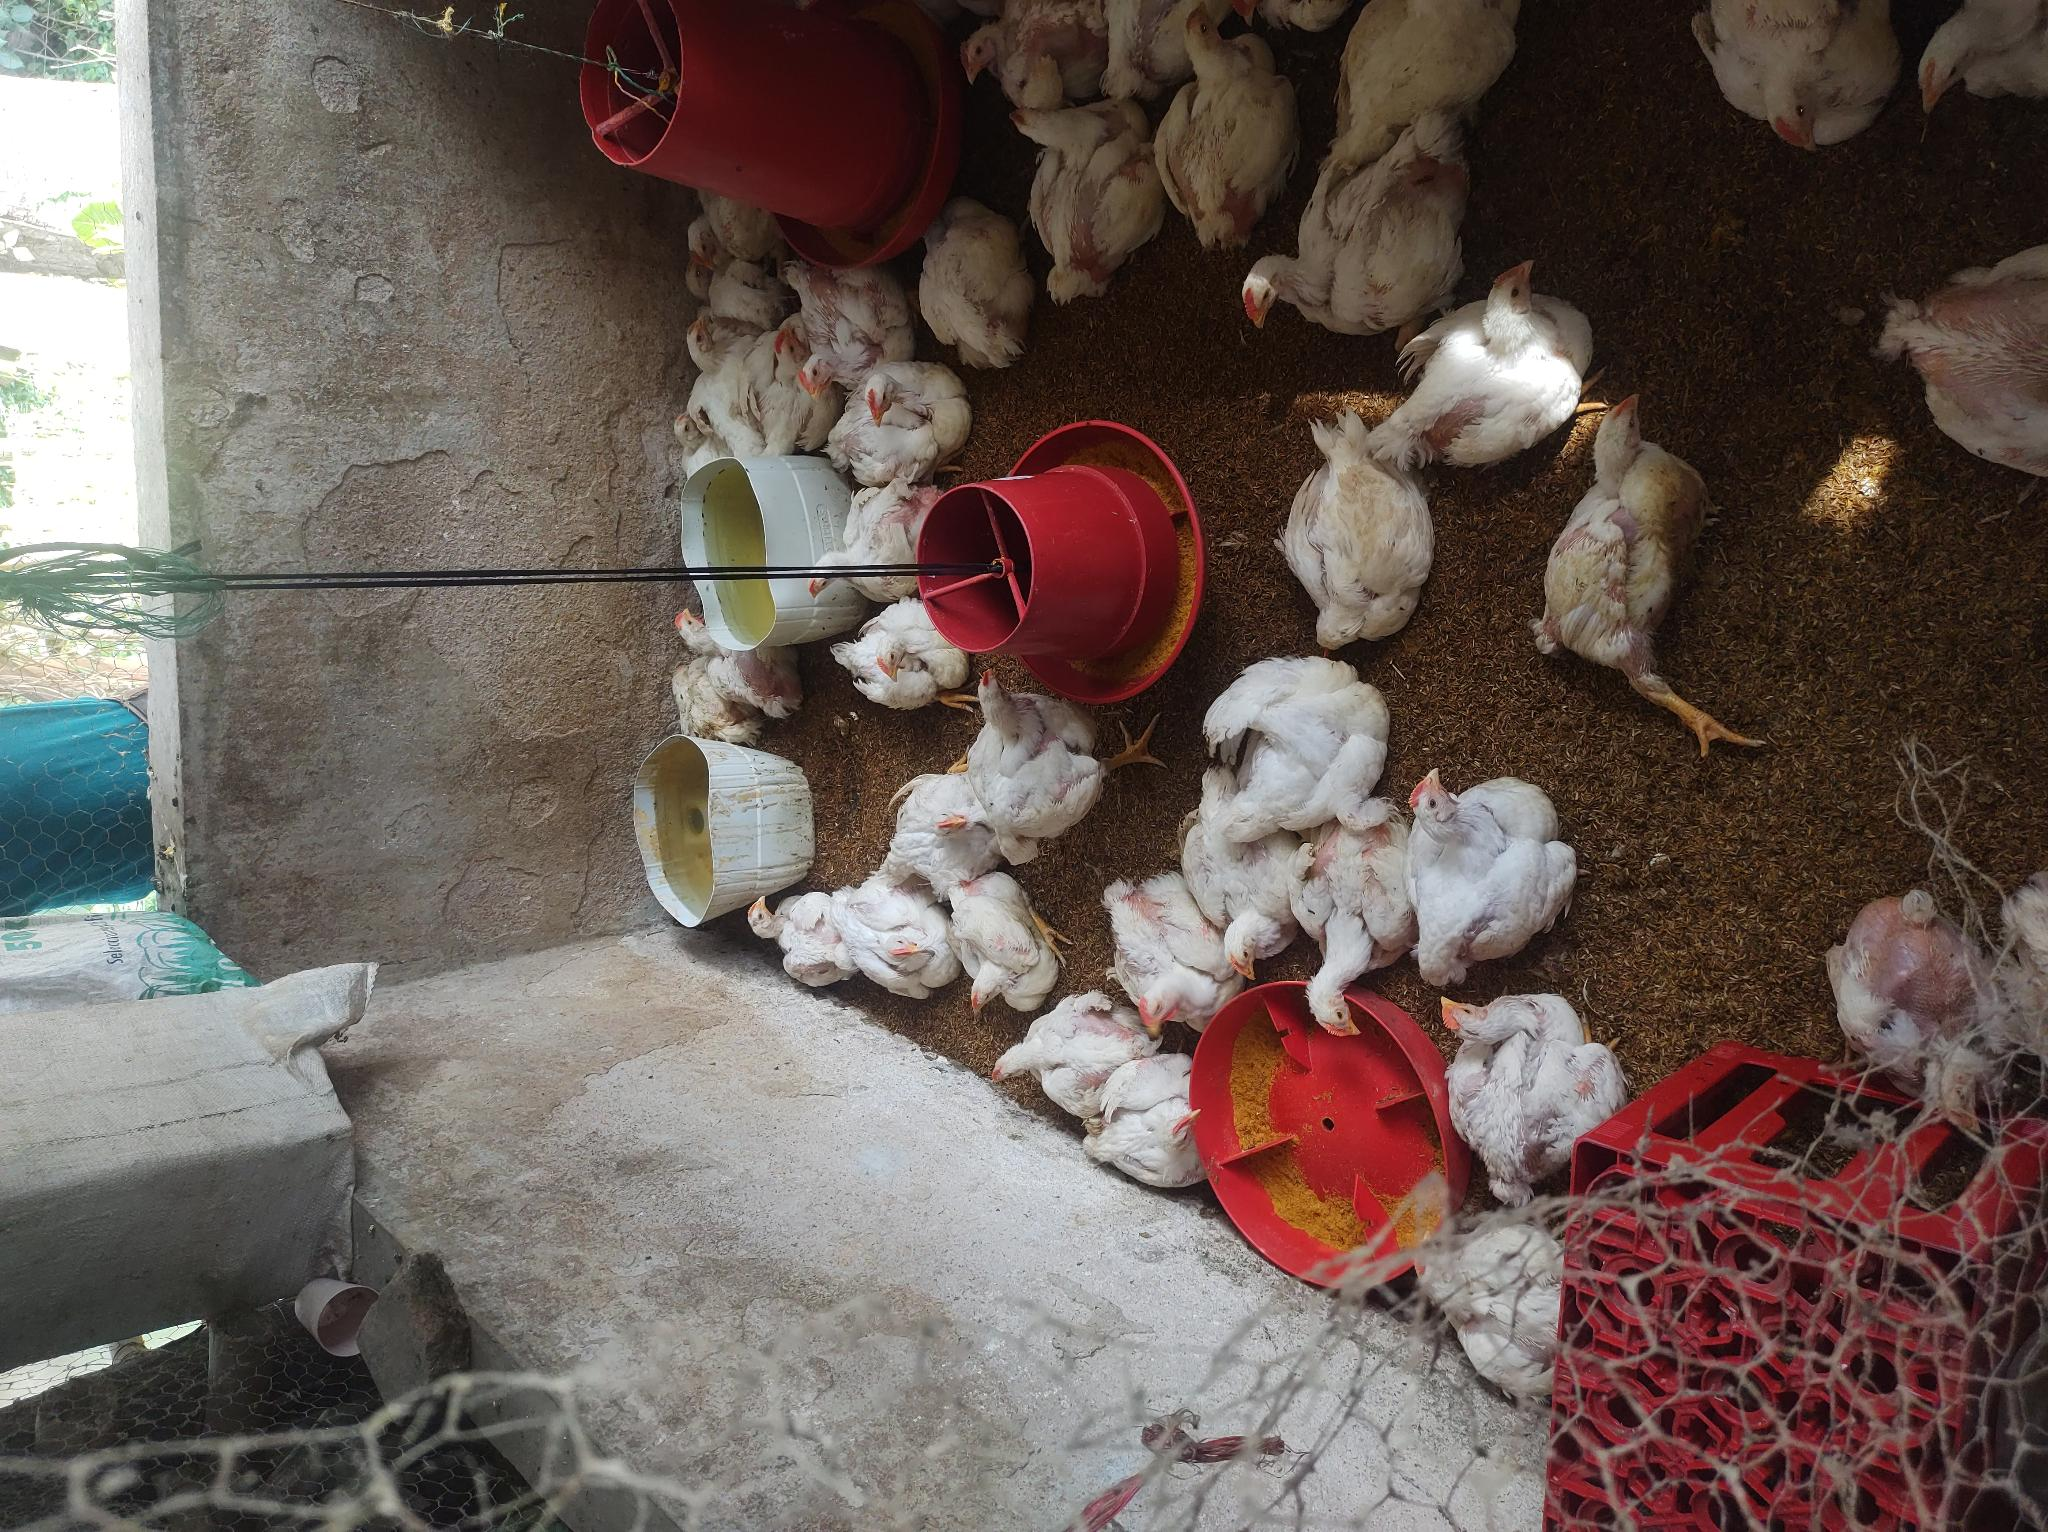Pollos: (1538, 389, 1755, 747), (1387, 735, 1625, 969), (1244, 114, 1478, 344), (1871, 232, 2048, 534), (1408, 970, 1655, 1176), (1377, 1220, 1615, 1403), (1384, 253, 1609, 439), (1236, 430, 1427, 649), (1097, 853, 1285, 1056), (1199, 645, 1393, 837), (1810, 871, 1951, 1131), (1149, 3, 1295, 246), (989, 106, 1163, 304), (1689, 0, 1898, 158), (1285, 809, 1424, 1044), (957, 669, 1134, 850), (1168, 803, 1353, 970), (644, 595, 809, 779), (899, 171, 1031, 377), (1081, 1056, 1242, 1220), (772, 229, 930, 373), (1342, 0, 1525, 122), (1902, 0, 2048, 148), (859, 763, 1010, 895), (943, 871, 1078, 1015), (822, 349, 967, 484), (957, 0, 1100, 134), (1980, 834, 2048, 1115), (985, 978, 1142, 1094), (825, 599, 985, 710), (822, 890, 951, 1020), (816, 475, 952, 587), (1097, 0, 1207, 108), (750, 871, 837, 1006), (682, 166, 785, 270), (679, 311, 769, 428), (759, 319, 816, 463), (661, 238, 763, 319), (656, 402, 743, 476)
